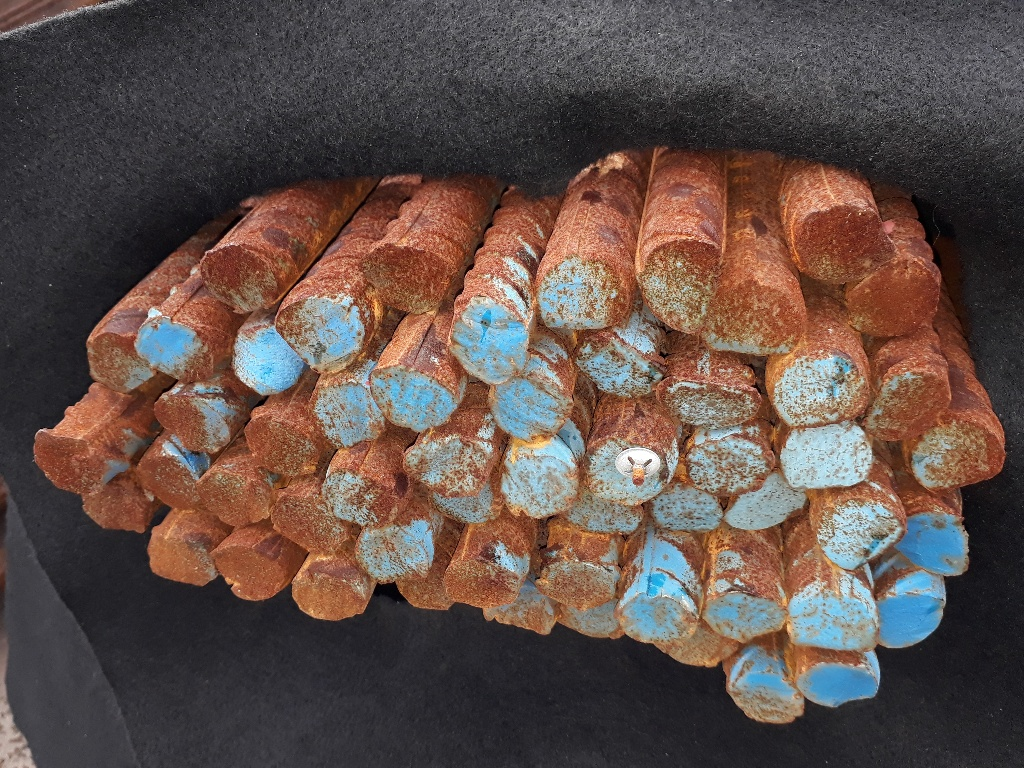dipstick: (772, 352, 865, 424), (787, 580, 878, 652), (709, 285, 802, 354), (852, 263, 939, 336), (278, 299, 364, 370), (800, 209, 888, 278), (646, 242, 711, 332), (503, 441, 575, 520), (540, 263, 626, 329), (364, 245, 447, 313), (784, 424, 871, 488), (820, 501, 903, 568), (913, 423, 1000, 486), (578, 330, 661, 395), (199, 244, 281, 309), (137, 313, 214, 380), (866, 373, 945, 438), (689, 435, 774, 494), (375, 367, 453, 430), (455, 313, 526, 381), (233, 326, 304, 393), (405, 438, 489, 494), (881, 573, 945, 646), (586, 441, 659, 502), (732, 659, 802, 722), (154, 395, 231, 452), (664, 383, 760, 427), (34, 432, 101, 495), (359, 524, 430, 582), (248, 416, 318, 474), (215, 546, 287, 602), (147, 529, 218, 585), (490, 383, 562, 438), (707, 591, 786, 641), (315, 384, 378, 446), (906, 513, 967, 577), (270, 495, 341, 549), (87, 332, 151, 391), (325, 472, 395, 524), (136, 454, 200, 510), (203, 473, 271, 524), (800, 663, 878, 707), (289, 572, 363, 618), (725, 487, 805, 528), (622, 598, 696, 641), (444, 563, 517, 604), (544, 562, 612, 605), (84, 484, 146, 531), (658, 492, 720, 532), (559, 607, 621, 643), (575, 501, 639, 534), (658, 643, 736, 666), (485, 608, 553, 634), (395, 584, 444, 610)
